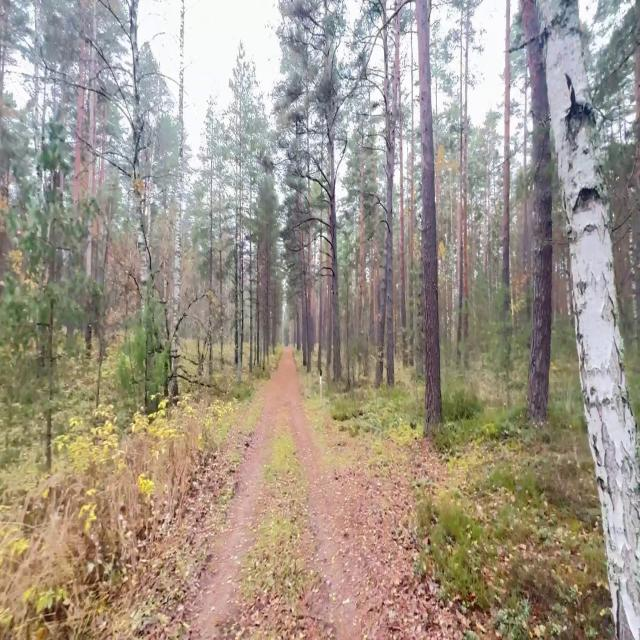trees: (534, 0, 639, 639), (522, 0, 552, 421), (416, 0, 442, 435), (373, 0, 401, 391), (324, 27, 341, 380), (170, 0, 184, 396), (382, 0, 394, 387), (394, 14, 407, 366), (502, 0, 511, 369), (461, 0, 470, 340), (430, 19, 450, 159), (455, 22, 463, 362), (522, 64, 531, 319), (233, 54, 240, 372), (318, 118, 326, 386), (239, 69, 244, 374), (250, 77, 255, 371), (409, 35, 415, 268), (219, 210, 223, 365), (255, 243, 259, 366), (209, 174, 213, 293)
